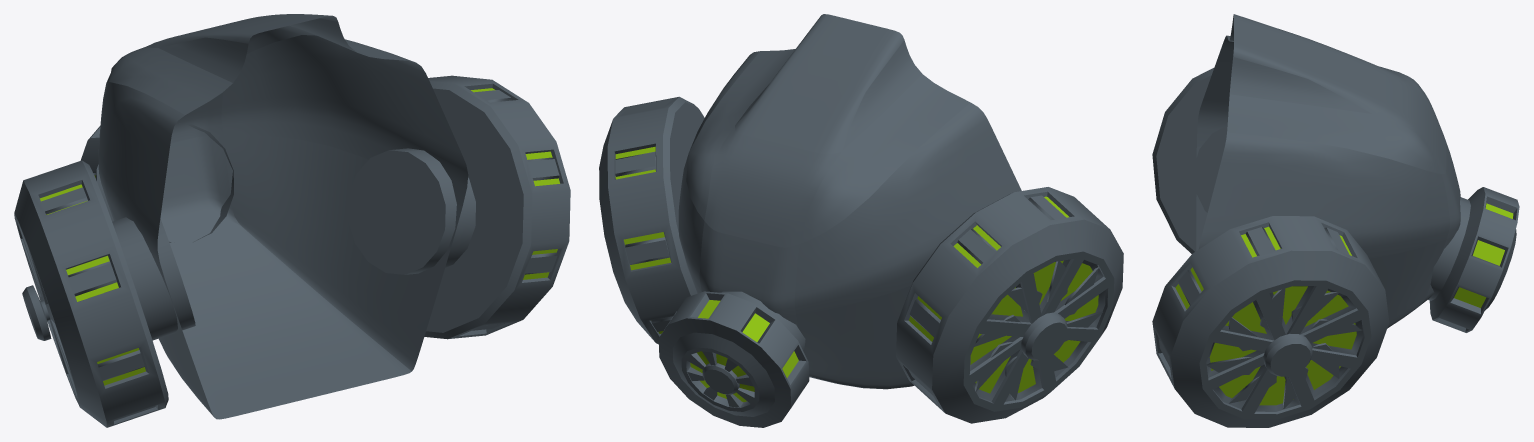
Rendered from AriesMask.fbx.
3 renders of one model, left to right at view 1: azimuth 30°, elevation 25°; view 2: azimuth 150°, elevation 25°; view 3: azimuth 270°, elevation 25°, orthographic. The views are drawn at different scales.
Visible parts, largest first — view 1: Mask, Circle.010, Circle.006; view 2: Mask, Circle.008, Circle.006, Circle.010; view 3: Mask, Circle.007, Circle.006.
Part boxes in pixels (box(x1,y1,x2,y2)): Mask: box(14, 14, 570, 427); Circle.010: box(41, 187, 155, 420); Circle.006: box(472, 90, 559, 330); Mask: box(599, 14, 1123, 427); Circle.008: box(974, 261, 1102, 400); Circle.006: box(615, 104, 672, 331); Circle.010: box(909, 195, 1065, 395); Mask: box(1152, 14, 1519, 427); Circle.007: box(1206, 288, 1362, 408); Circle.006: box(1158, 227, 1349, 367).
Bounding box in the file's own units: 270 × 184 × 189.
Materials: 3 (1 with a texture image).
